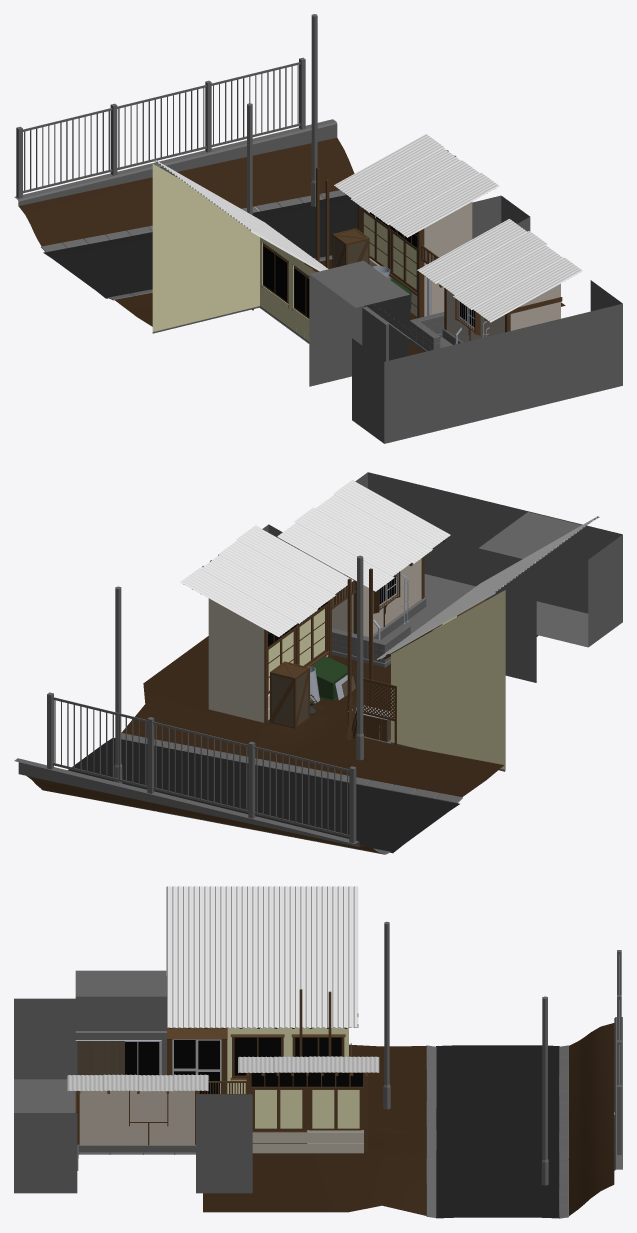
3 renders of one model, top to bottom at view 1: azimuth 30°, elevation 25°; view 2: azimuth 150°, elevation 25°; view 3: azimuth 270°, elevation 25°, orthographic. The views are drawn at different scales.
Visible parts, largest first — view 1: SCene; view 2: SCene; view 3: SCene.
Boxes of the visible parts, x1,y1,x2,y2 form: SCene: (14, 14, 622, 443); SCene: (14, 472, 622, 854); SCene: (14, 886, 622, 1218).
Bounding box in the file's own units: 1271 × 717 × 2005.
